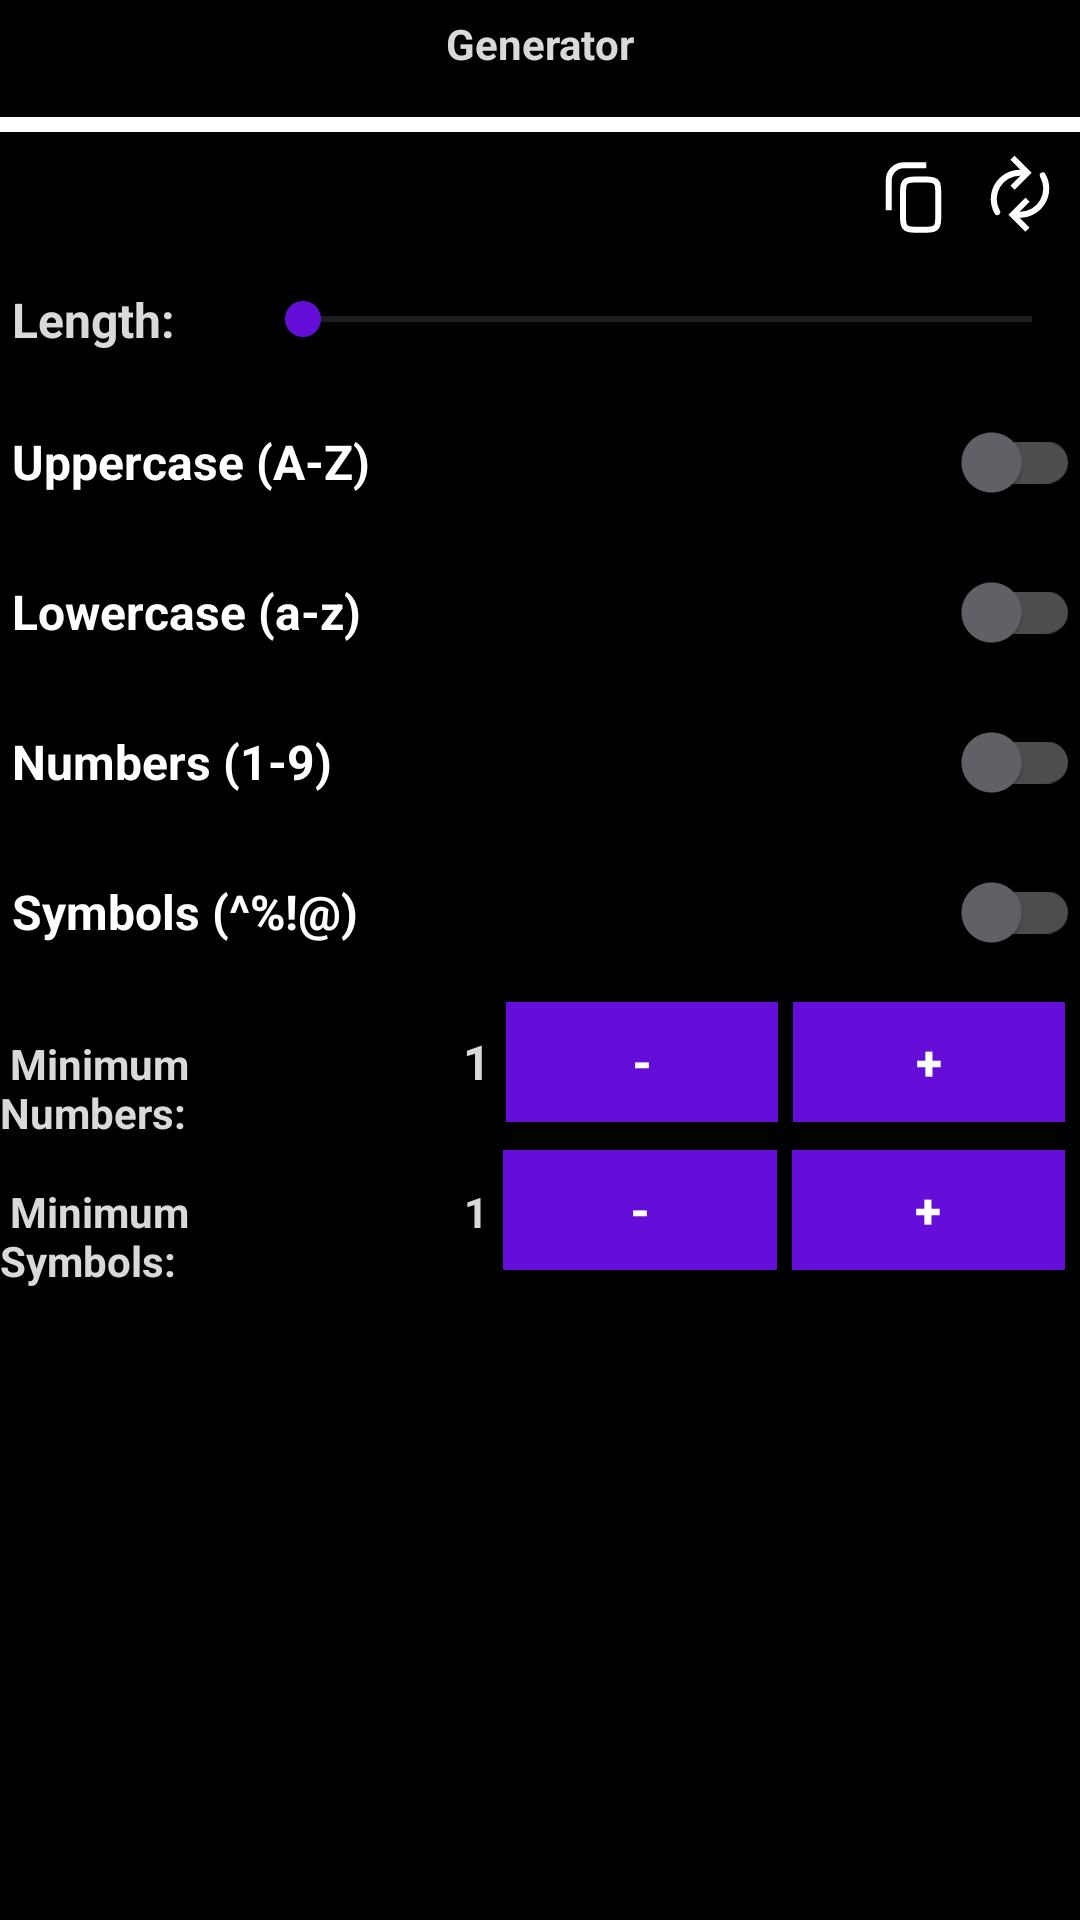

Icon click points for this 1080w x 1920h phone screenshot, format (x=x, y=y):
button to copy the password: (x=913, y=197)
button to refresh the password: (x=1020, y=193)
